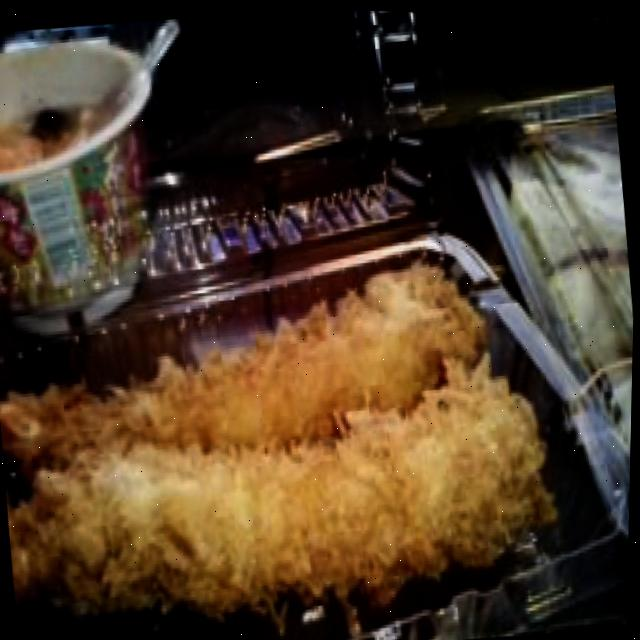炸货点心: (0, 187, 593, 640)
熟制海鲜: (0, 187, 593, 640)
